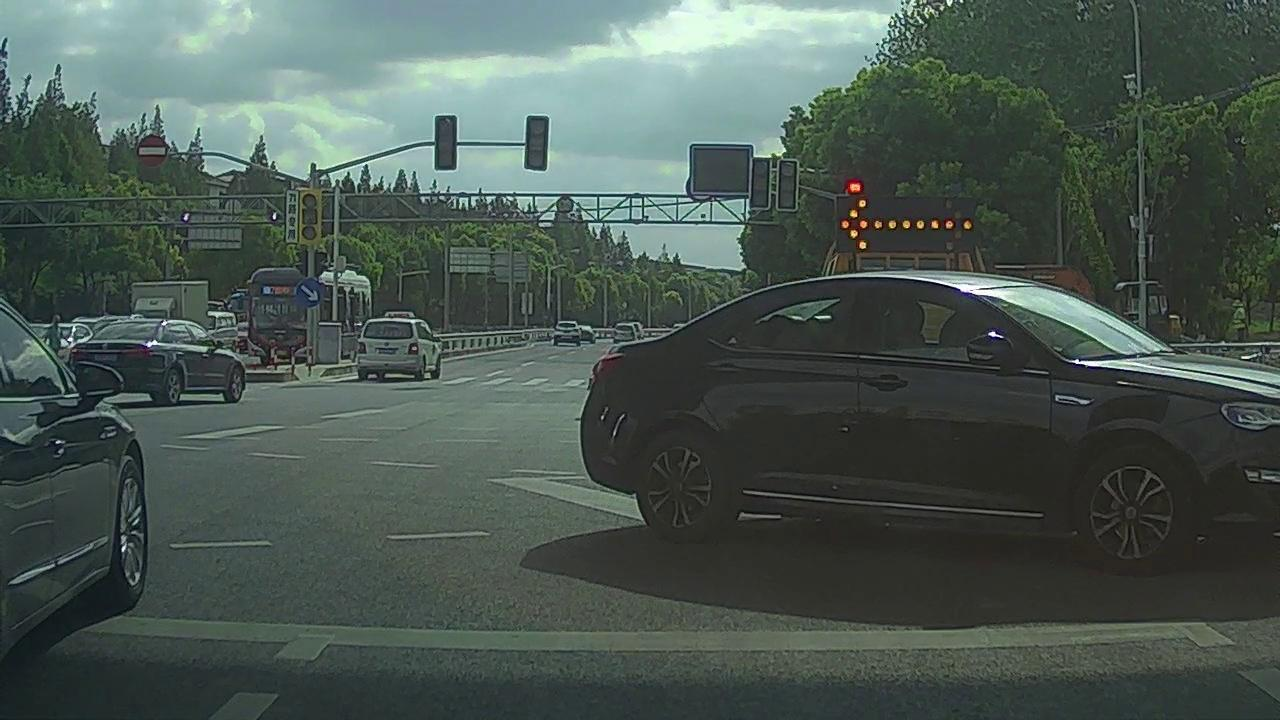traffic_light: (433, 120, 457, 170), (527, 115, 545, 171), (779, 161, 797, 210), (753, 160, 768, 207)
